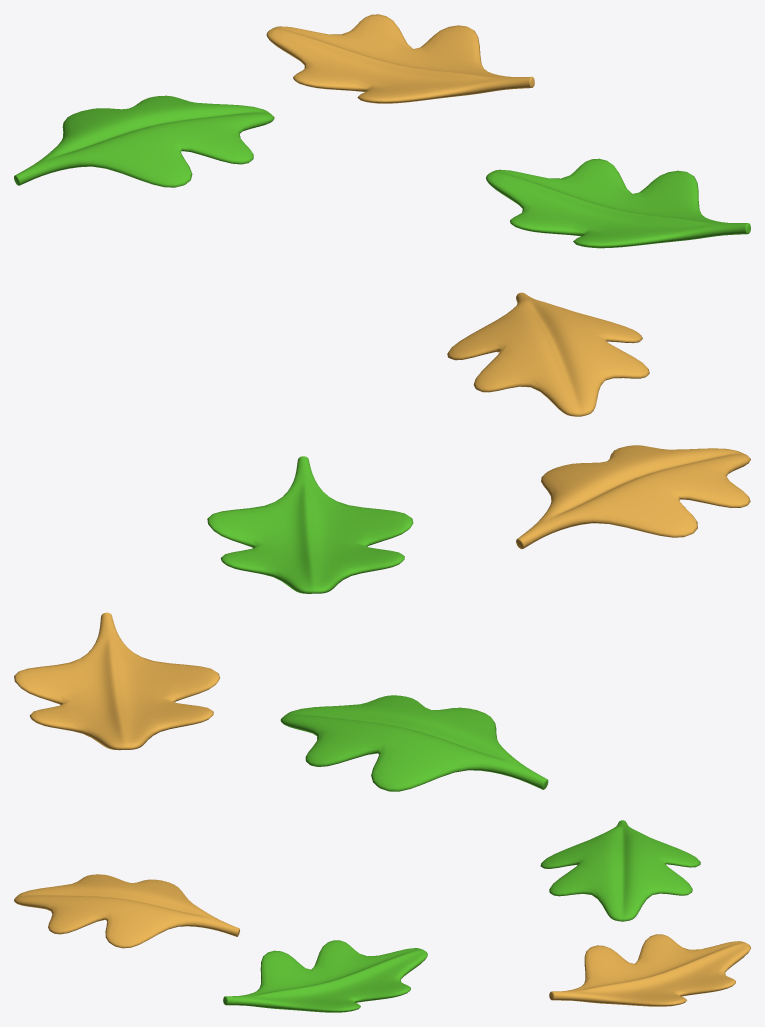
The model's file is leaves.fbx.
3 views of the same model, one above another, from view 1: azimuth 30°, elevation 25°; view 2: azimuth 150°, elevation 25°; view 3: azimuth 270°, elevation 25° (orthographic). The views are drawn at different scales.
Parts seen in each view (by area): view 1: Plane.002, Plane.005, Plane.001, Plane.004; view 2: Plane.001, Plane.004, Plane.005, Plane.002; view 3: Plane.004, Plane.002, Plane.005, Plane.001.
Boxes of the visible parts, box(x1,y1,x2,y2) form: Plane.002: box(266, 14, 534, 103); Plane.005: box(486, 158, 750, 248); Plane.001: box(14, 95, 274, 187); Plane.004: box(447, 292, 649, 416); Plane.001: box(280, 695, 548, 791); Plane.004: box(516, 445, 750, 548); Plane.005: box(207, 456, 413, 593); Plane.002: box(14, 612, 219, 750); Plane.004: box(14, 874, 239, 948); Plane.002: box(549, 934, 750, 1006); Plane.005: box(223, 940, 427, 1012); Plane.001: box(540, 820, 700, 921).
Size of the model in its own units: 96.83 by 7.09 by 154.
